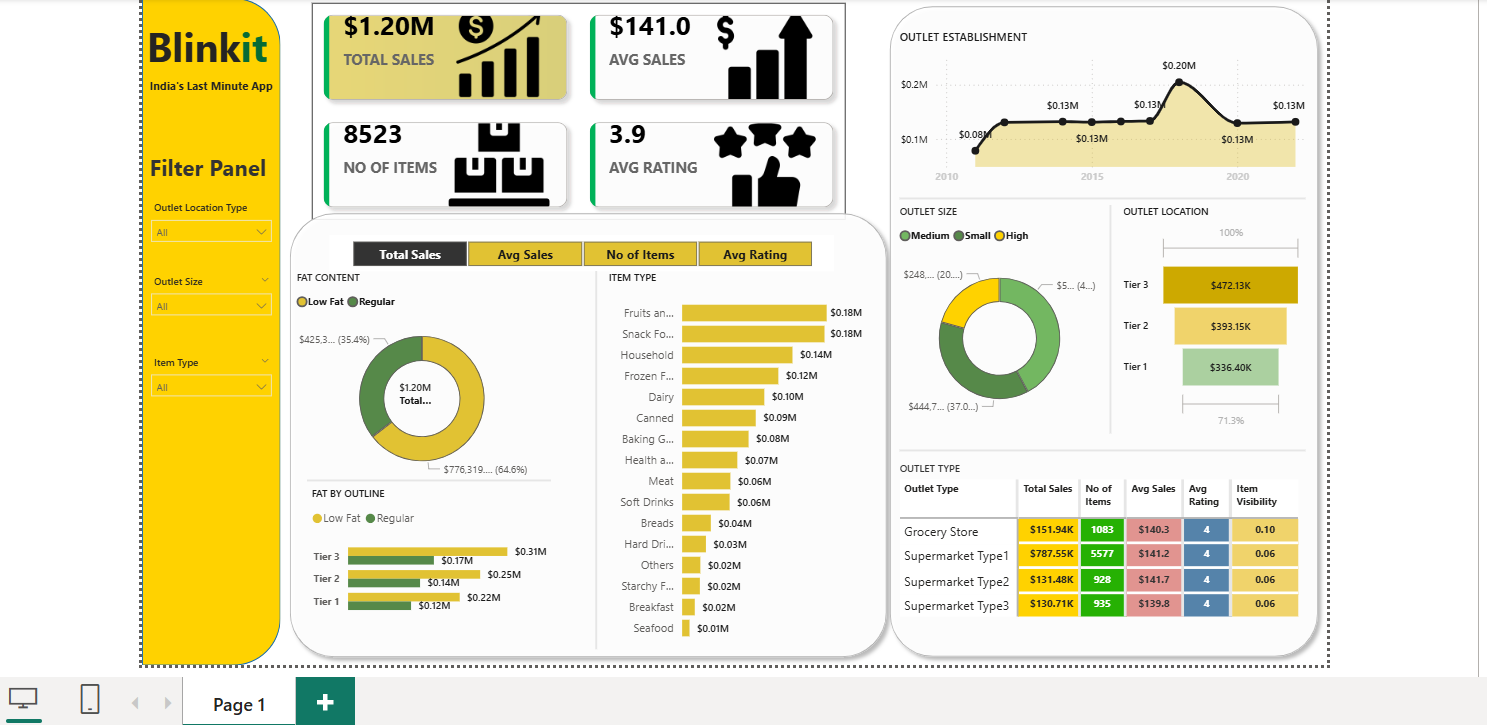

The page's visual inventory and layout, read from the dashboard file:
{"tool":"powerbi","page":{"name":"Page 1","canvas":[1280,720],"ordinal":0},"visuals":[{"type":"shape","box":[0,0,149.6,720.6],"z":0},{"type":"textbox","box":[0,17.9,149.6,78.1],"z":1000},{"type":"textbox","box":[0,79.7,149.6,32.5],"z":2000},{"type":"cardVisual","fields":{"Data":["BlinkIT Grocery Data.Total Sales","BlinkIT Grocery Data.Avg Sales","BlinkIT Grocery Data.No of Items","BlinkIT Grocery Data.Avg Rating"]},"box":[178.1,0,586.2,244.5],"z":3000},{"type":"shape","box":[150.6,223.5,662.3,497.1],"z":4000},{"type":"slicer","fields":{"Values":["METRIX.METRIX"]},"box":[201.7,255.4,544.9,39],"z":5000},{"type":"donutChart","title":"FAT CONTENT","fields":{"Y":["BlinkIT Grocery Data.Total Sales"],"Category":["BlinkIT Grocery Data.Item Fat Content"]},"box":[162.7,294.4,279.8,234.2],"z":6000},{"type":"cardVisual","fields":{"Data":["BlinkIT Grocery Data.Total Sales"]},"box":[260.2,400.1,83,55.3],"z":7000},{"type":"clusteredBarChart","title":"FAT BY OUTLINE","fields":{"Y":["BlinkIT Grocery Data.Total Sales"],"Category":["BlinkIT Grocery Data.Outlet Location Type"],"Series":["BlinkIT Grocery Data.Item Fat Content"]},"box":[178.3,528.3,265,148.3],"z":8000},{"type":"shape","box":[178.3,513.3,263.3,15],"z":9000},{"type":"shape","box":[473.3,295,35,408.3],"z":10000},{"type":"barChart","title":"ITEM TYPE","fields":{"Y":["BlinkIT Grocery Data.Total Sales"],"Category":["BlinkIT Grocery Data.Item Type"]},"box":[498.3,295,283.3,408.3],"z":11000},{"type":"shape","box":[798.3,0,480,720],"z":12000},{"type":"lineChart","title":" OUTLET ESTABLISHMENT","fields":{"Y":["BlinkIT Grocery Data.Total Sales"],"Category":["BlinkIT Grocery Data.Outlet Establishment Year"]},"box":[813.3,33.3,450,175],"z":13000},{"type":"shape","box":[818.3,208.3,438.3,15],"z":14000},{"type":"donutChart","title":"OUTLET SIZE","fields":{"Y":["BlinkIT Grocery Data.Total Sales"],"Category":["BlinkIT Grocery Data.Outlet Size"]},"box":[813.3,223.3,225,246.7],"z":15000},{"type":"shape","box":[1038.3,223.3,15,246.7],"z":16000},{"type":"funnel","title":" OUTLET LOCATION","fields":{"Y":["BlinkIT Grocery Data.Total Sales"],"Category":["BlinkIT Grocery Data.Outlet Location Type"]},"box":[1053.3,223.3,203.3,246.7],"z":17000},{"type":"shape","box":[818.3,481.7,438.3,15],"z":18000},{"type":"pivotTable","title":"OUTLET TYPE","fields":{"Rows":["BlinkIT Grocery Data.Outlet Type"],"Values":["BlinkIT Grocery Data.Total Sales","BlinkIT Grocery Data.No of Items","BlinkIT Grocery Data.Avg Sales","BlinkIT Grocery Data.Avg Rating","Avg(BlinkIT Grocery Data.Item Visibility)"]},"box":[813.3,500,450,176.7],"z":19000},{"type":"slicer","fields":{"Values":["BlinkIT Grocery Data.Outlet Location Type"]},"box":[0,213.3,150,61.7],"z":20000},{"type":"slicer","fields":{"Values":["BlinkIT Grocery Data.Outlet Size"]},"box":[0,293.3,150,60],"z":21000},{"type":"slicer","fields":{"Values":["BlinkIT Grocery Data.Item Type"]},"box":[0,380,150,61.7],"z":22000},{"type":"textbox","box":[3.3,160,160,48.3],"z":23000}]}

Visuals, with their boxes on the page's 1280x720 design canvas (x1, y1, x2, y2). These are canvas units, not pixel positions in the 1487x725 screenshot, which may show the page scaled, cropped or inside an application window:
shape: 0 0 150 721
textbox: 0 18 150 96
textbox: 0 80 150 112
cardVisual - BlinkIT Grocery Data.Total Sales x BlinkIT Grocery Data.Avg Sales: 178 0 764 244
shape: 151 224 813 721
slicer - METRIX.METRIX: 202 255 747 294
"FAT CONTENT" donutChart: 163 294 442 529
cardVisual - BlinkIT Grocery Data.Total Sales: 260 400 343 455
"FAT BY OUTLINE" clusteredBarChart: 178 528 443 677
shape: 178 513 442 528
shape: 473 295 508 703
"ITEM TYPE" barChart: 498 295 782 703
shape: 798 0 1278 720
" OUTLET ESTABLISHMENT" lineChart: 813 33 1263 208
shape: 818 208 1257 223
"OUTLET SIZE" donutChart: 813 223 1038 470
shape: 1038 223 1053 470
" OUTLET LOCATION" funnel: 1053 223 1257 470
shape: 818 482 1257 497
"OUTLET TYPE" pivotTable: 813 500 1263 677
slicer - BlinkIT Grocery Data.Outlet Location Type: 0 213 150 275
slicer - BlinkIT Grocery Data.Outlet Size: 0 293 150 353
slicer - BlinkIT Grocery Data.Item Type: 0 380 150 442
textbox: 3 160 163 208
